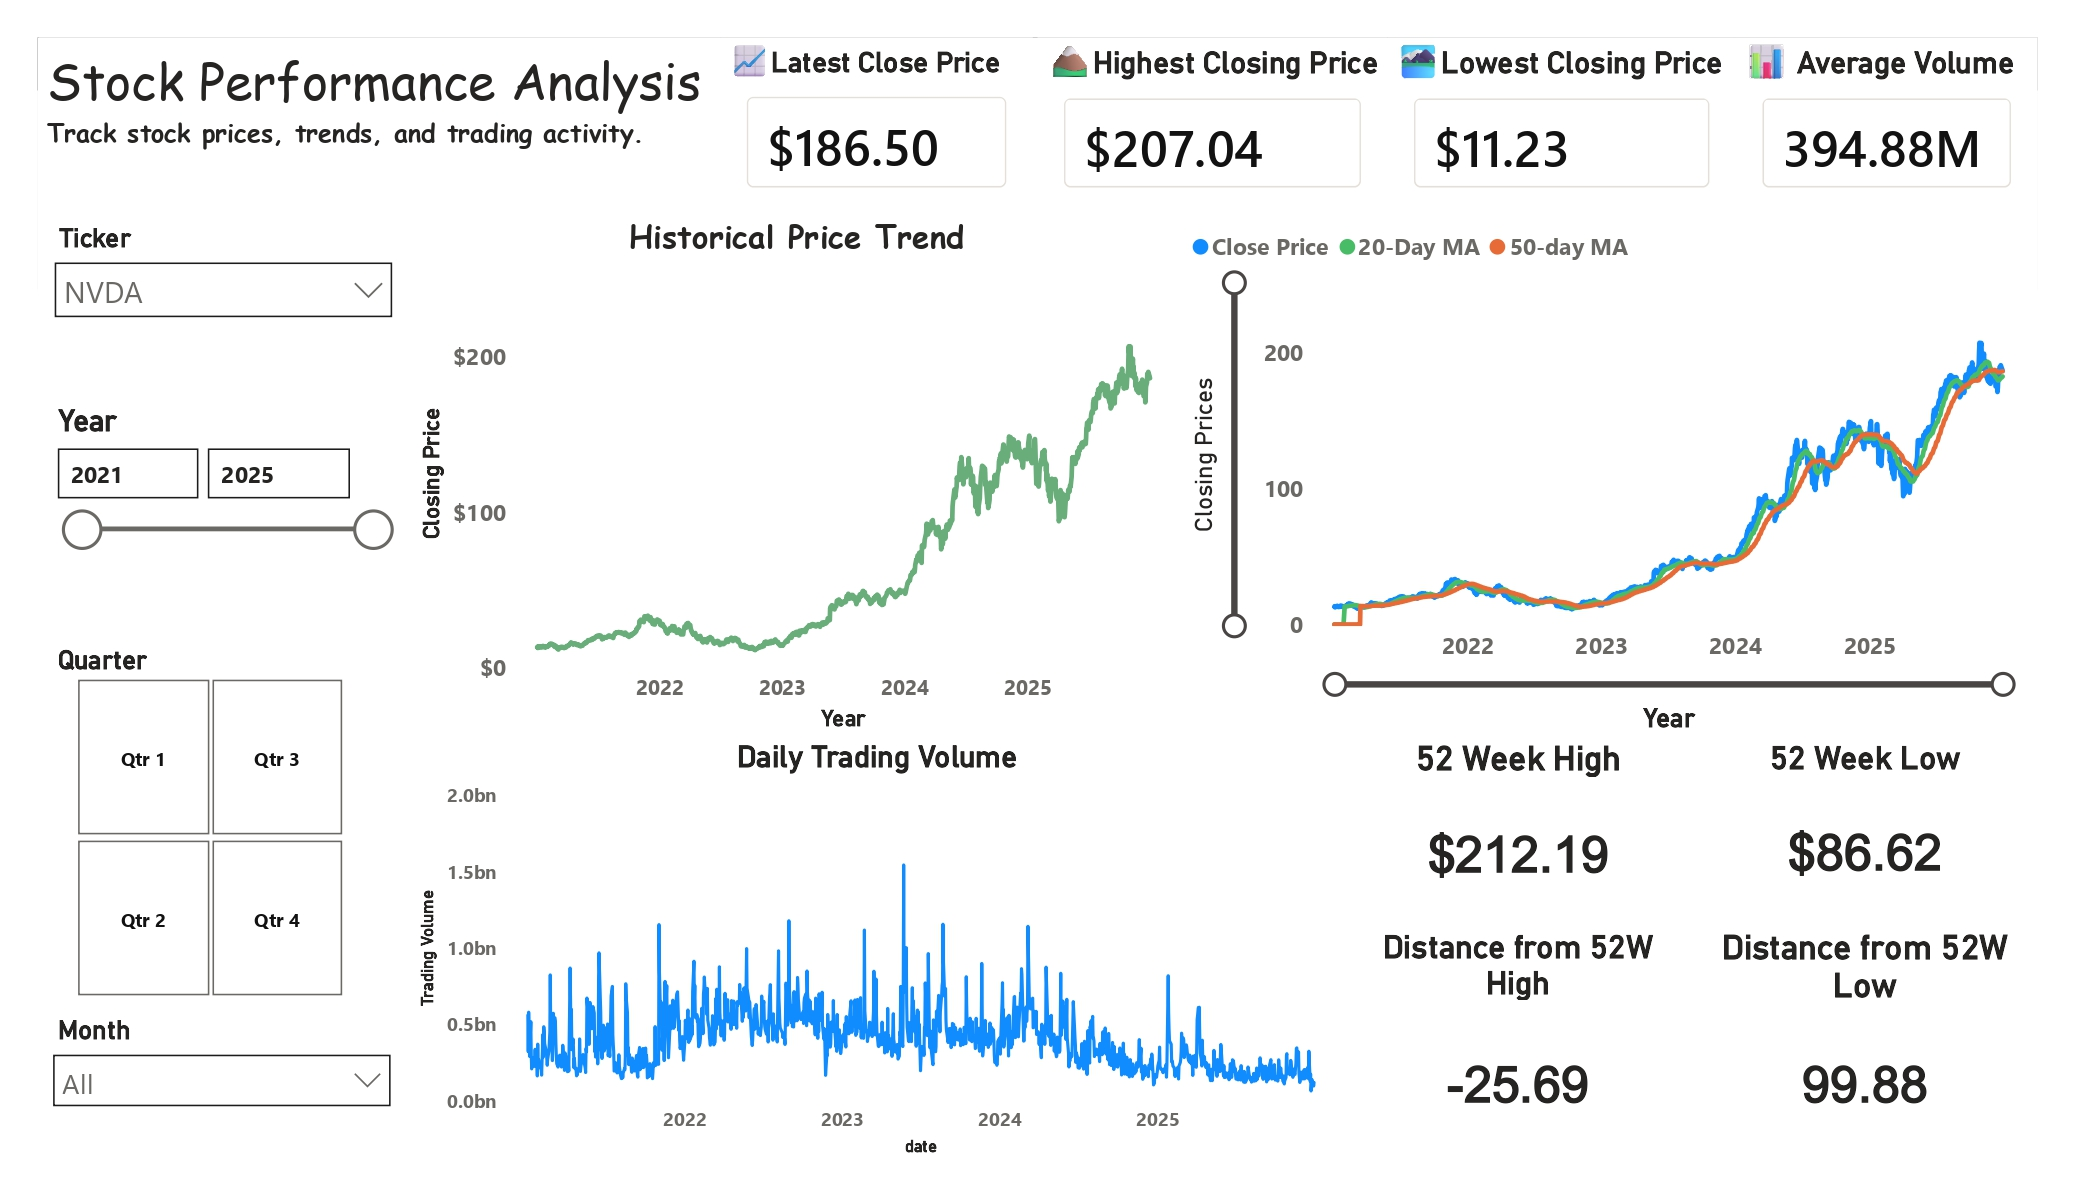

The page's visual inventory and layout, read from the dashboard file:
{"tool":"powerbi","page":{"name":"Page 3","canvas":[1280,720],"ordinal":2},"visuals":[{"type":"slicer","fields":{"Values":["portfolio_analysis stock_data_features.Ticker"]},"box":[1.4,112.9,235.7,115.7],"z":0},{"type":"slicer","fields":{"Values":["portfolio_analysis stock_data_features.Date.Variation.Date Hierarchy.Year"]},"box":[0,228.6,235.7,154.3],"z":1000},{"type":"slicer","fields":{"Values":["portfolio_analysis stock_data_features.Date.Variation.Date Hierarchy.Quarter"]},"box":[0,382.5,218.8,237.5],"z":2000},{"type":"slicer","fields":{"Values":["portfolio_analysis stock_data_features.Date.Variation.Date Hierarchy.Month"]},"box":[0,620,235.7,100],"z":3000},{"type":"cardVisual","title":"📈Latest Close Price","fields":{"Data":["portfolio_analysis stock_data_features.Latest Close Price"]},"box":[437.1,0,200,112.9],"z":4000},{"type":"cardVisual","title":"🏔️Highest Closing Price","fields":{"Data":["portfolio_analysis stock_data_features.Highest Close Price"]},"box":[640,0,224.3,112.9],"z":5000},{"type":"cardVisual","title":"🏞️Lowest Closing Price","fields":{"Data":["portfolio_analysis stock_data_features.Lowest Close Price"]},"box":[864.3,0,222.9,112.9],"z":6000},{"type":"cardVisual","title":"📊  Average Volume","fields":{"Data":["portfolio_analysis stock_data_features.Average Volume"]},"box":[1087.1,0,192.9,112.9],"z":7000},{"type":"lineChart","title":"Historical Price Trend","fields":{"Y":["Sum(portfolio_analysis stock_data_features.Close)"],"Category":["portfolio_analysis stock_data_features.Date.Variation.Date Hierarchy.Year","portfolio_analysis stock_data_features.Date.Variation.Date Hierarchy.Quarter","portfolio_analysis stock_data_features.Date.Variation.Date Hierarchy.Month","portfolio_analysis stock_data_features.Date.Variation.Date Hierarchy.Day"]},"box":[238.6,112.9,494.3,335.7],"z":8000},{"type":"lineChart","fields":{"Y":["portfolio_analysis stock_data_features.Close Price","portfolio_analysis stock_data_features.20-Day MA","portfolio_analysis stock_data_features.50-day MA"],"Category":["portfolio_analysis stock_data_features.Date.Variation.Date Hierarchy.Year","portfolio_analysis stock_data_features.Date.Variation.Date Hierarchy.Quarter","portfolio_analysis stock_data_features.Date.Variation.Date Hierarchy.Month","portfolio_analysis stock_data_features.Date.Variation.Date Hierarchy.Day"]},"box":[732.9,112.9,547.1,335.7],"z":9000},{"type":"lineChart","title":"Daily Trading Volume","fields":{"Y":["Sum(portfolio_analysis stock_data_features.Volume)"],"Category":["portfolio_analysis stock_data_features.Date.Variation.Date Hierarchy.Year","portfolio_analysis stock_data_features.Date.Variation.Date Hierarchy.Quarter","portfolio_analysis stock_data_features.Date.Variation.Date Hierarchy.Month","portfolio_analysis stock_data_features.Date.Variation.Date Hierarchy.Day"]},"box":[238.6,448.6,597.1,271.4],"z":10000},{"type":"textbox","box":[1.4,0,435.7,112.9],"z":11000},{"type":"kpi","title":"52 Week High ","fields":{"Indicator":["portfolio_analysis stock_data_features.52 Week High"],"TrendLine":["portfolio_analysis stock_data_features.Ticker"]},"box":[836,449,223,121],"z":13000},{"type":"kpi","title":"52 Week Low ","fields":{"Indicator":["portfolio_analysis stock_data_features.52 Week Low"],"TrendLine":["portfolio_analysis stock_data_features.Ticker"]},"box":[1059,449,221,121],"z":14000},{"type":"kpi","title":"Distance from 52W High ","fields":{"Indicator":["portfolio_analysis stock_data_features.Distance from 52W High"],"TrendLine":["portfolio_analysis stock_data_features.Ticker"]},"box":[836,570,223,150],"z":15000},{"type":"kpi","title":"Distance from 52W Low ","fields":{"Indicator":["portfolio_analysis stock_data_features.Distance from 52W Low"],"TrendLine":["portfolio_analysis stock_data_features.Ticker"]},"box":[1059,570,221,150],"z":16000}]}

Visuals, with their boxes on the page's 1280x720 design canvas (x1, y1, x2, y2). These are canvas units, not pixel positions in the 2075x1200 screenshot, which may show the page scaled, cropped or inside an application window:
slicer - portfolio_analysis stock_data_features.Ticker: box(1, 113, 237, 229)
slicer - portfolio_analysis stock_data_features.Date.Variation.Date Hierarchy.Year: box(0, 229, 236, 383)
slicer - portfolio_analysis stock_data_features.Date.Variation.Date Hierarchy.Quarter: box(0, 382, 219, 620)
slicer - portfolio_analysis stock_data_features.Date.Variation.Date Hierarchy.Month: box(0, 620, 236, 720)
"📈Latest Close Price" cardVisual: box(437, 0, 637, 113)
"🏔️Highest Closing Price" cardVisual: box(640, 0, 864, 113)
"🏞️Lowest Closing Price" cardVisual: box(864, 0, 1087, 113)
"📊  Average Volume" cardVisual: box(1087, 0, 1280, 113)
"Historical Price Trend" lineChart: box(239, 113, 733, 449)
lineChart - portfolio_analysis stock_data_features.Close Price x portfolio_analysis stock_data_features.20-Day MA: box(733, 113, 1280, 449)
"Daily Trading Volume" lineChart: box(239, 449, 836, 720)
textbox: box(1, 0, 437, 113)
"52 Week High " kpi: box(836, 449, 1059, 570)
"52 Week Low " kpi: box(1059, 449, 1280, 570)
"Distance from 52W High " kpi: box(836, 570, 1059, 720)
"Distance from 52W Low " kpi: box(1059, 570, 1280, 720)
